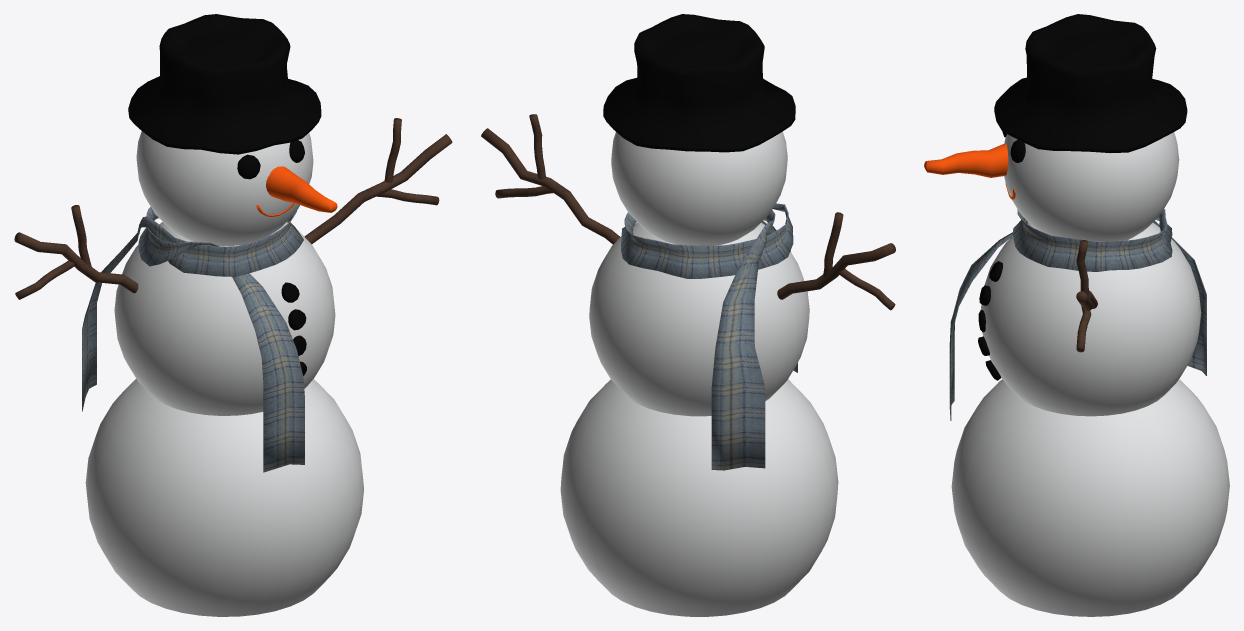
The model's file is obstaculo_nieve_snowman_1.fbx.
3 renders of one model, left to right at view 1: azimuth 30°, elevation 25°; view 2: azimuth 150°, elevation 25°; view 3: azimuth 270°, elevation 25°, orthographic.
Visible parts, largest first — view 1: obstaculo_nieve_snowman_1:Mesh; view 2: obstaculo_nieve_snowman_1:Mesh; view 3: obstaculo_nieve_snowman_1:Mesh.
Boxes of the visible parts, x1,y1,x2,y2 form: obstaculo_nieve_snowman_1:Mesh: (14,14,452,616); obstaculo_nieve_snowman_1:Mesh: (481,14,895,616); obstaculo_nieve_snowman_1:Mesh: (924,14,1229,616).
Bounding box in the file's own units: 8.51 × 10.29 × 5.32.
1 material, 1 textured.
